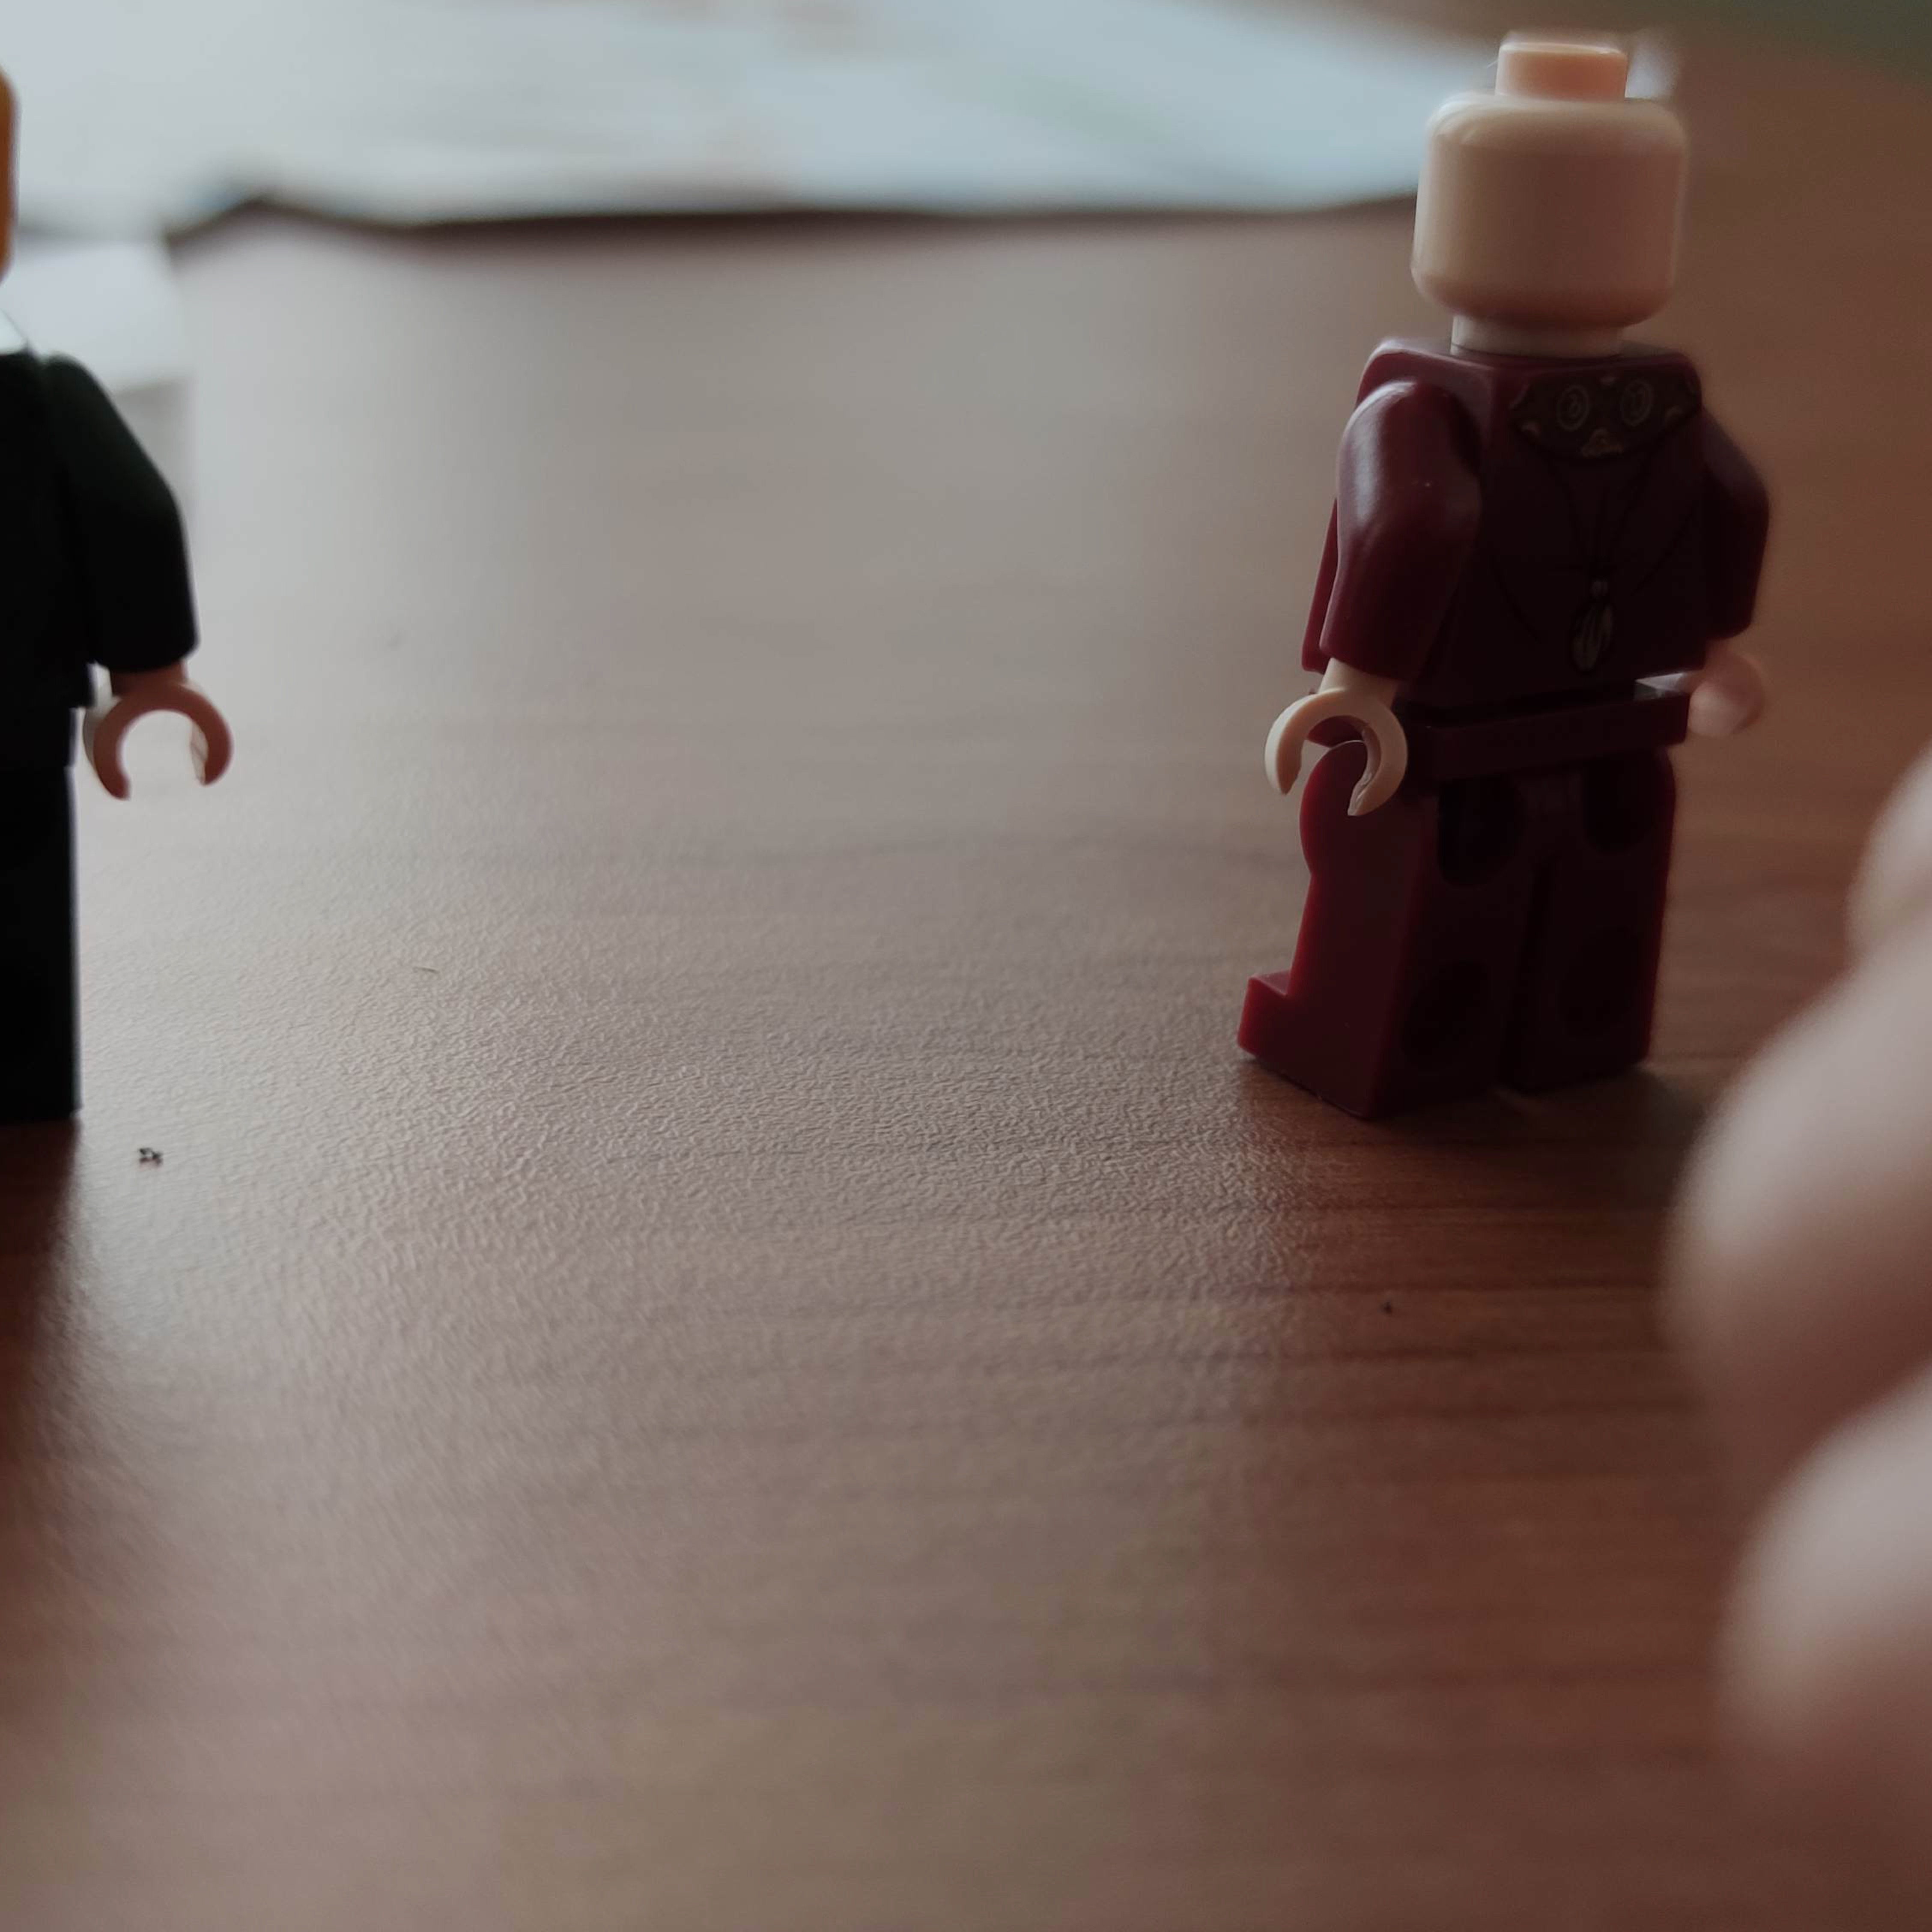lego: (1240, 42, 1771, 1141)
